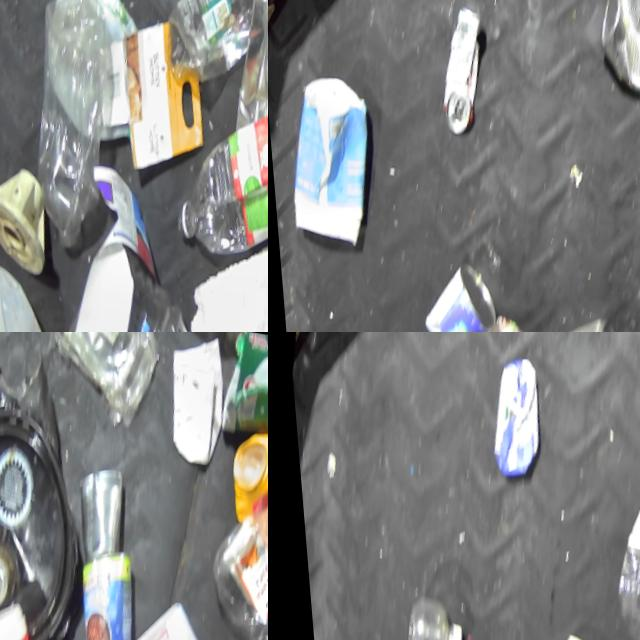can: (422, 1, 489, 136), (57, 543, 143, 640), (59, 460, 131, 571), (403, 253, 499, 332), (218, 0, 268, 141), (577, 0, 640, 106), (538, 307, 618, 332), (461, 307, 529, 332)
milk_jug: (0, 245, 60, 332)
non_white_jug: (35, 237, 219, 332), (207, 426, 268, 586)
plastic_bottle: (153, 84, 268, 276), (147, 0, 259, 94), (187, 515, 268, 640), (583, 466, 640, 640), (382, 581, 462, 640)
